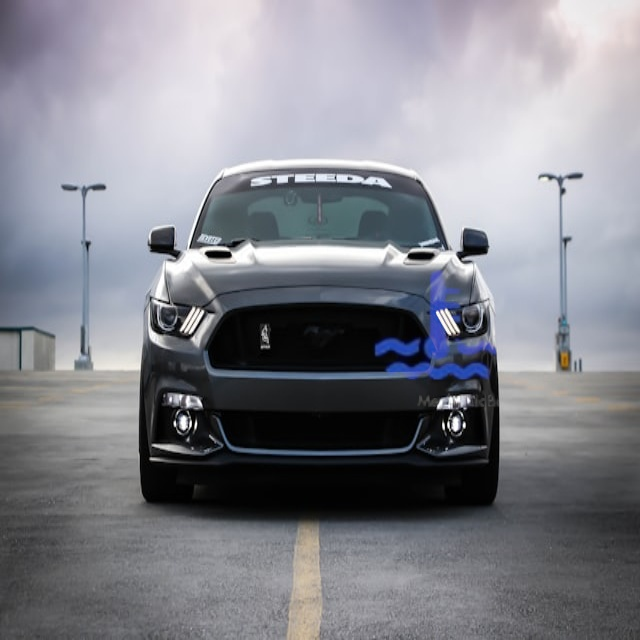symbol: (416, 11, 624, 219), (346, 234, 528, 416)
